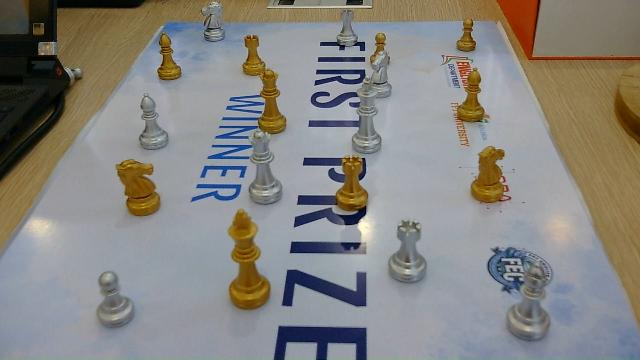black_bishop: (456, 67, 486, 122), (157, 31, 183, 81)
black_king: (227, 209, 271, 309)
black_knight: (115, 159, 162, 217), (471, 147, 507, 203)
black_pawn: (457, 18, 477, 51), (370, 33, 389, 51)
black_queen: (257, 69, 288, 134)
black_rook: (335, 156, 370, 212), (242, 35, 265, 77)
white_bishop: (506, 258, 553, 340), (138, 94, 170, 150)
white_king: (353, 80, 381, 152)
white_knight: (367, 52, 394, 97), (199, 1, 226, 42)
white_pawn: (95, 271, 134, 328)
white_queen: (248, 130, 282, 205)
white_rook: (388, 219, 428, 283), (336, 10, 359, 46)
